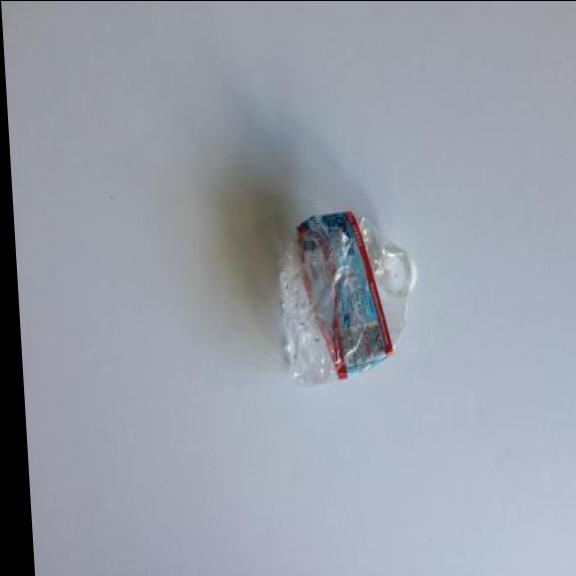Plastik: (269, 202, 425, 404)
